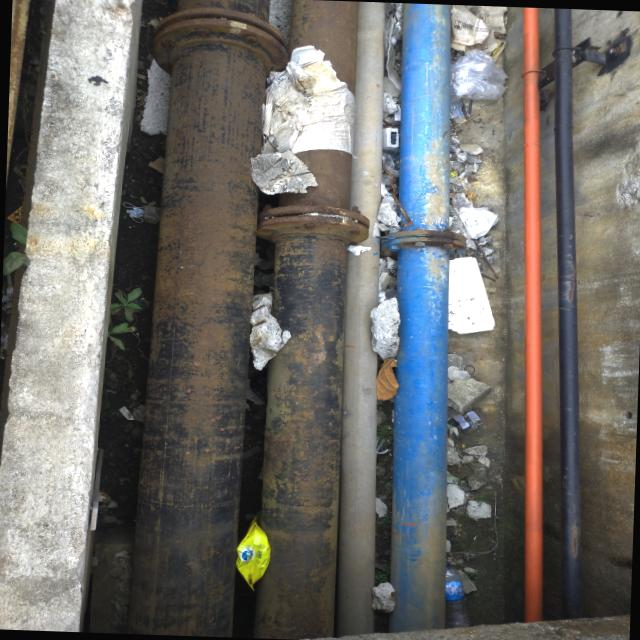gas: (131, 0, 265, 637), (255, 0, 357, 639), (390, 6, 448, 624), (549, 8, 580, 614), (522, 12, 540, 617)
